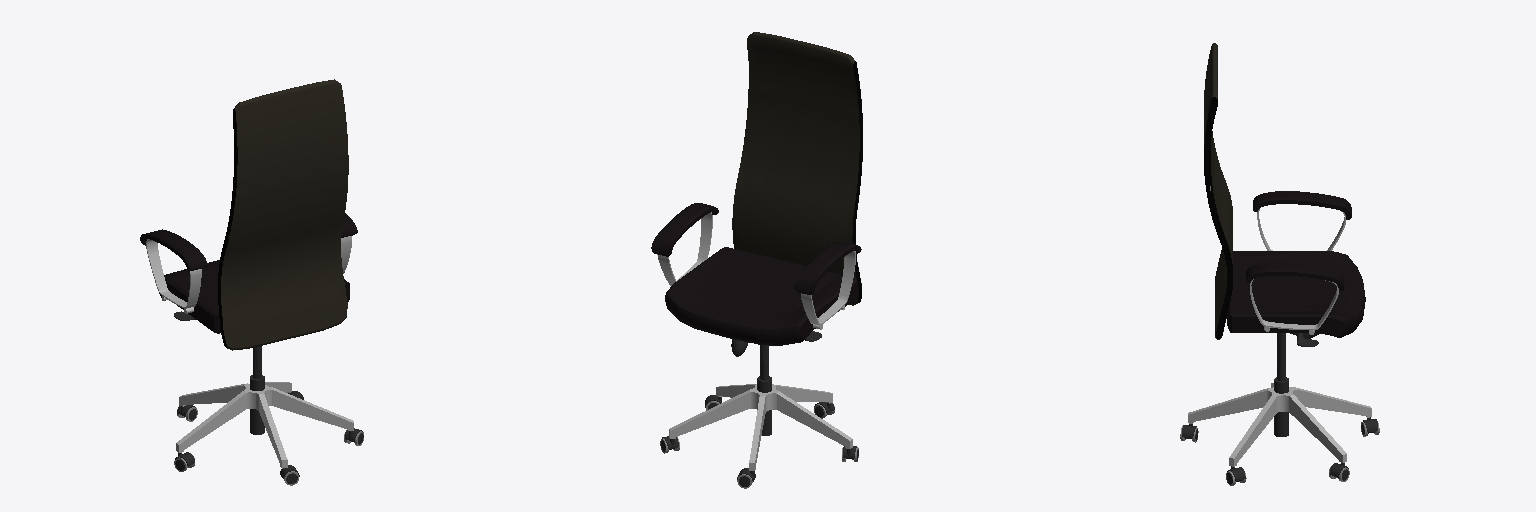
3 views of the same model, side by side, from view 1: azimuth 30°, elevation 25°; view 2: azimuth 150°, elevation 25°; view 3: azimuth 270°, elevation 25° (orthographic).
Parts seen in each view (by area): view 1: Mesh1 Group1 Model, Mesh3 Group3 Model, Mesh6 Group6 Model, Mesh12 Group10 Armrest2 Model, Mesh13 Group11 Armrest2 Model, Mesh2 Group2 Model; view 2: Mesh1 Group1 Model, Mesh6 Group6 Model, Mesh3 Group3 Model, Mesh13 Group11 Armrest2 Model, Mesh9 Group9 Armrest1 Model, Mesh12 Group10 Armrest2 Model, Mesh8 Group8 Armrest1 Model, Mesh2 Group2 Model; view 3: Mesh6 Group6 Model, Mesh3 Group3 Model, Mesh1 Group1 Model, Mesh13 Group11 Armrest2 Model, Mesh9 Group9 Armrest1 Model, Mesh2 Group2 Model, Mesh8 Group8 Armrest1 Model.
Part boxes in pixels (left/top/right/bottom): Mesh1 Group1 Model: left=218, top=79, right=348, bottom=350; Mesh3 Group3 Model: left=176, top=382, right=353, bottom=468; Mesh6 Group6 Model: left=159, top=260, right=349, bottom=333; Mesh12 Group10 Armrest2 Model: left=146, top=239, right=201, bottom=308; Mesh13 Group11 Armrest2 Model: left=140, top=229, right=207, bottom=270; Mesh2 Group2 Model: left=250, top=346, right=264, bottom=434; Mesh1 Group1 Model: left=732, top=32, right=862, bottom=305; Mesh6 Group6 Model: left=665, top=247, right=857, bottom=345; Mesh3 Group3 Model: left=669, top=384, right=852, bottom=470; Mesh13 Group11 Armrest2 Model: left=794, top=241, right=861, bottom=294; Mesh9 Group9 Armrest1 Model: left=651, top=203, right=718, bottom=256; Mesh12 Group10 Armrest2 Model: left=801, top=251, right=855, bottom=325; Mesh8 Group8 Armrest1 Model: left=657, top=212, right=712, bottom=285; Mesh2 Group2 Model: left=757, top=345, right=771, bottom=435; Mesh6 Group6 Model: left=1227, top=251, right=1365, bottom=337; Mesh3 Group3 Model: left=1188, top=383, right=1371, bottom=466; Mesh1 Group1 Model: left=1204, top=43, right=1232, bottom=339; Mesh13 Group11 Armrest2 Model: left=1253, top=191, right=1351, bottom=219; Mesh9 Group9 Armrest1 Model: left=1246, top=263, right=1343, bottom=290; Mesh2 Group2 Model: left=1274, top=333, right=1288, bottom=436; Mesh8 Group8 Armrest1 Model: left=1250, top=279, right=1338, bottom=329.
Bounding box in the file's own units: 0.4454 × 0.9531 × 0.4513.